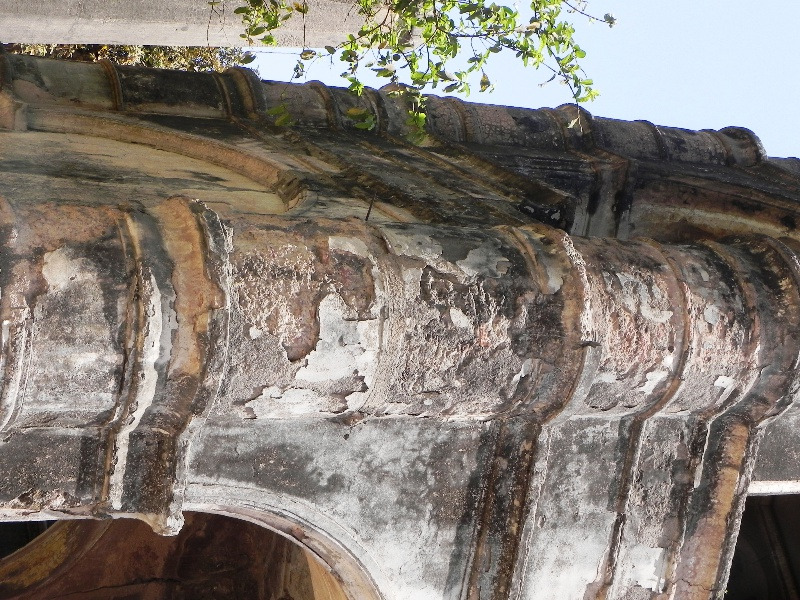Spalling: (202, 204, 375, 364)
